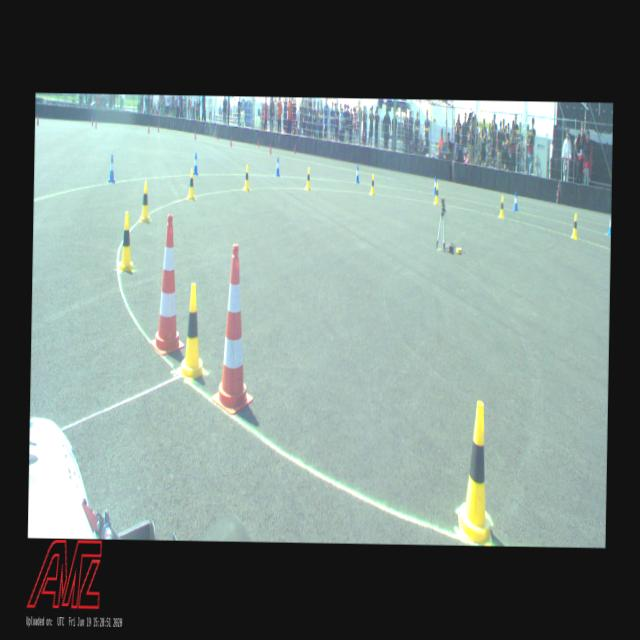blue_cone: (107, 154, 116, 183), (192, 152, 198, 175), (512, 190, 518, 210), (275, 156, 280, 176), (606, 214, 610, 236), (354, 165, 359, 182), (432, 176, 437, 193)
large_orange_cone: (211, 242, 256, 416), (150, 214, 186, 356)
yellow_cone: (457, 400, 496, 544), (176, 282, 208, 382), (118, 210, 136, 272), (138, 180, 151, 222), (186, 168, 196, 200), (570, 212, 578, 239), (243, 164, 250, 190), (305, 166, 311, 189), (498, 195, 504, 218), (433, 182, 439, 205), (370, 173, 375, 196)
